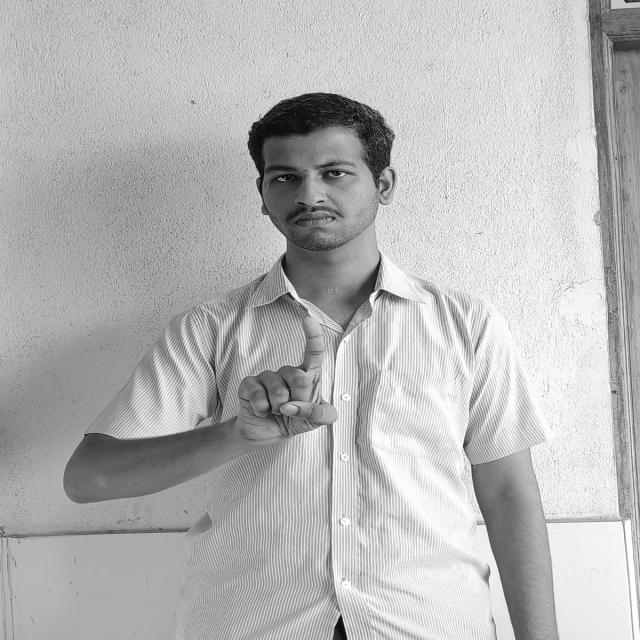Question: (232, 316, 342, 440)
